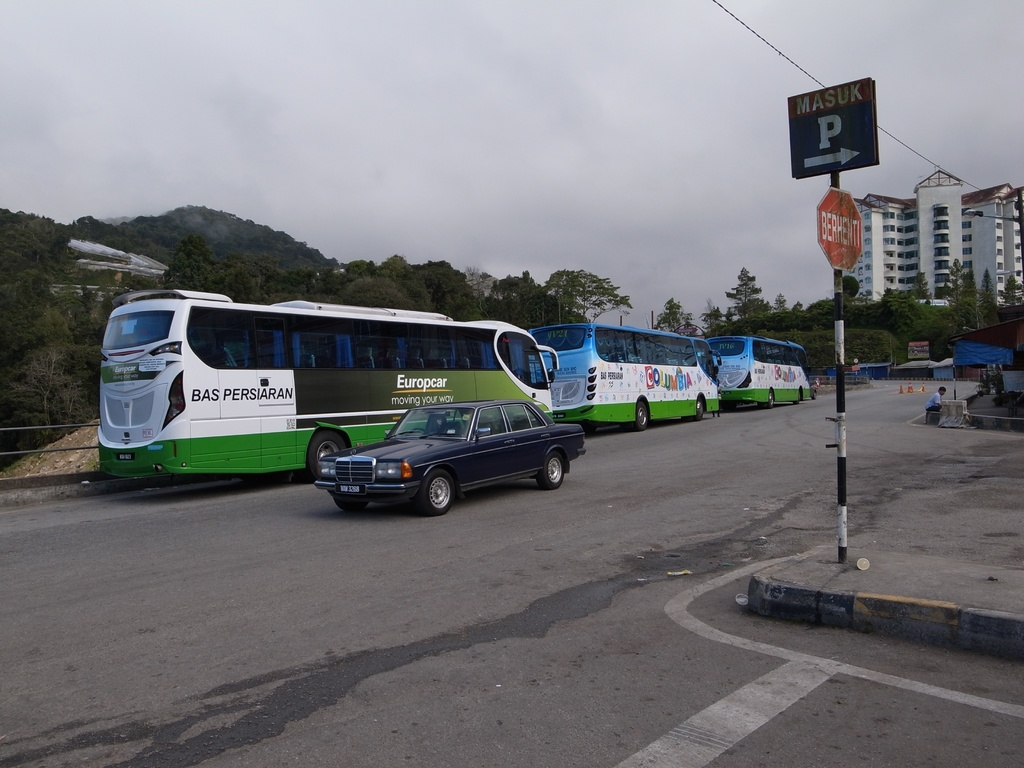Car: (305, 374, 586, 518)
